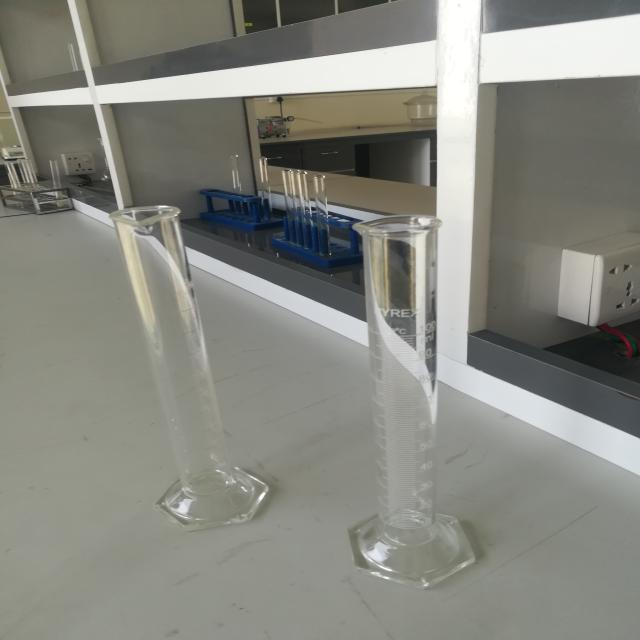Measuring_Cylinder: (312, 165, 533, 613), (84, 189, 290, 552)
